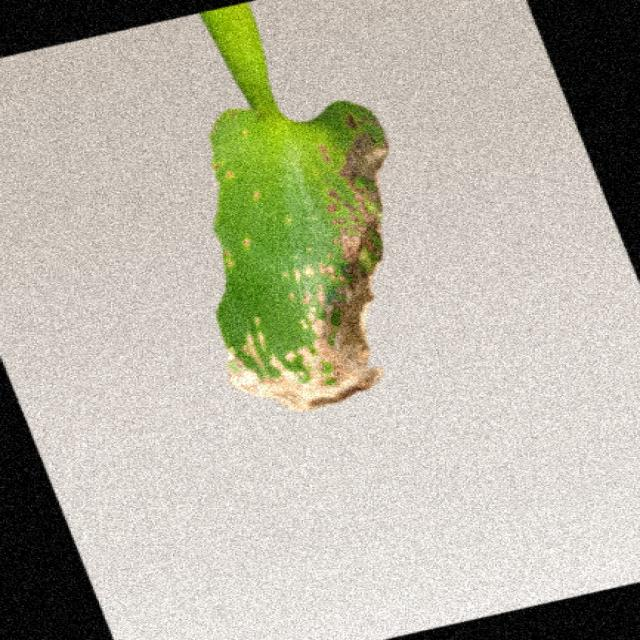daun berpenyakit bercak: (202, 4, 388, 410)
